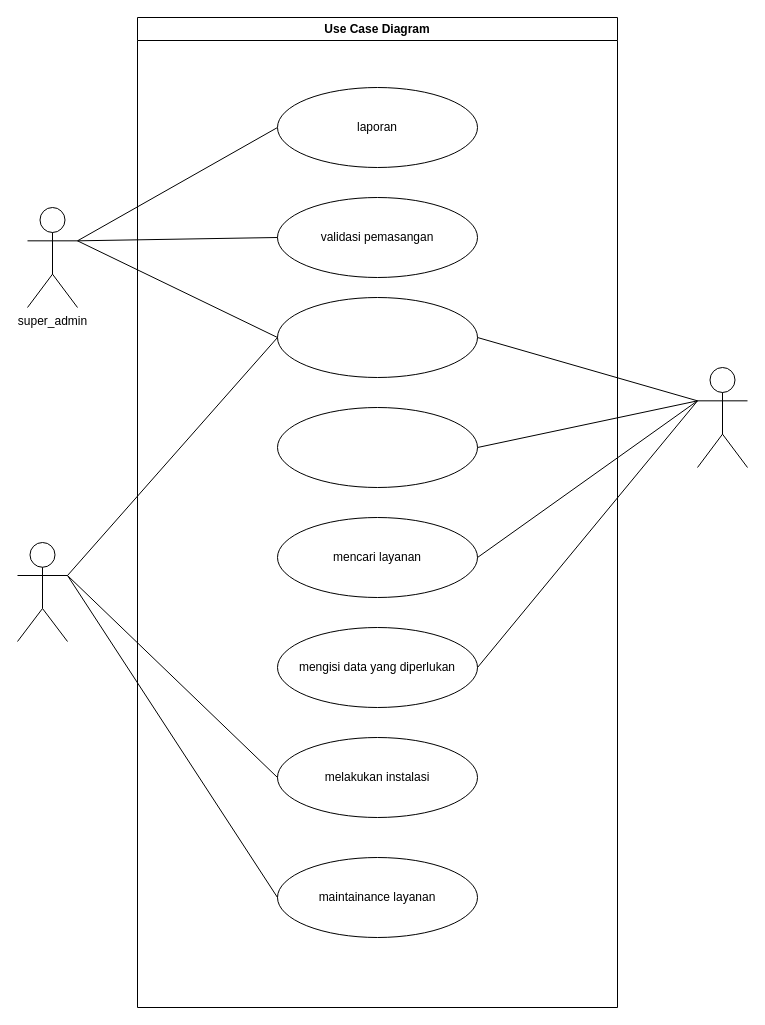
Image size: 765x1025. Some labels were removed from this diagram. Each missing label, with the box of its shape:
admin: (16, 542, 68, 642)
klien: (696, 366, 748, 468)
login: (276, 296, 478, 378)
register: (276, 406, 478, 488)
